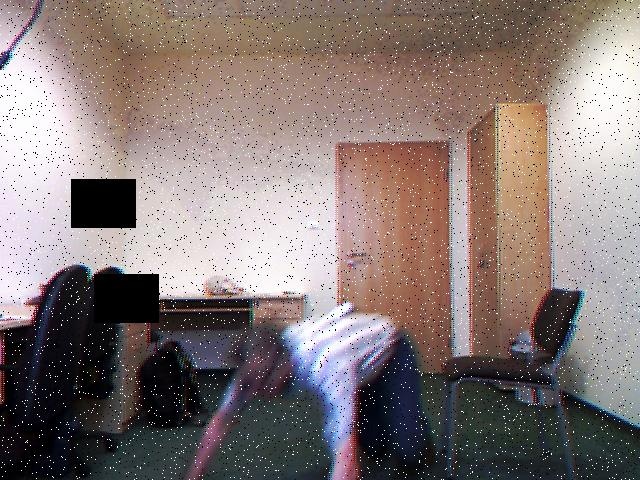fall: (186, 302, 449, 480)
